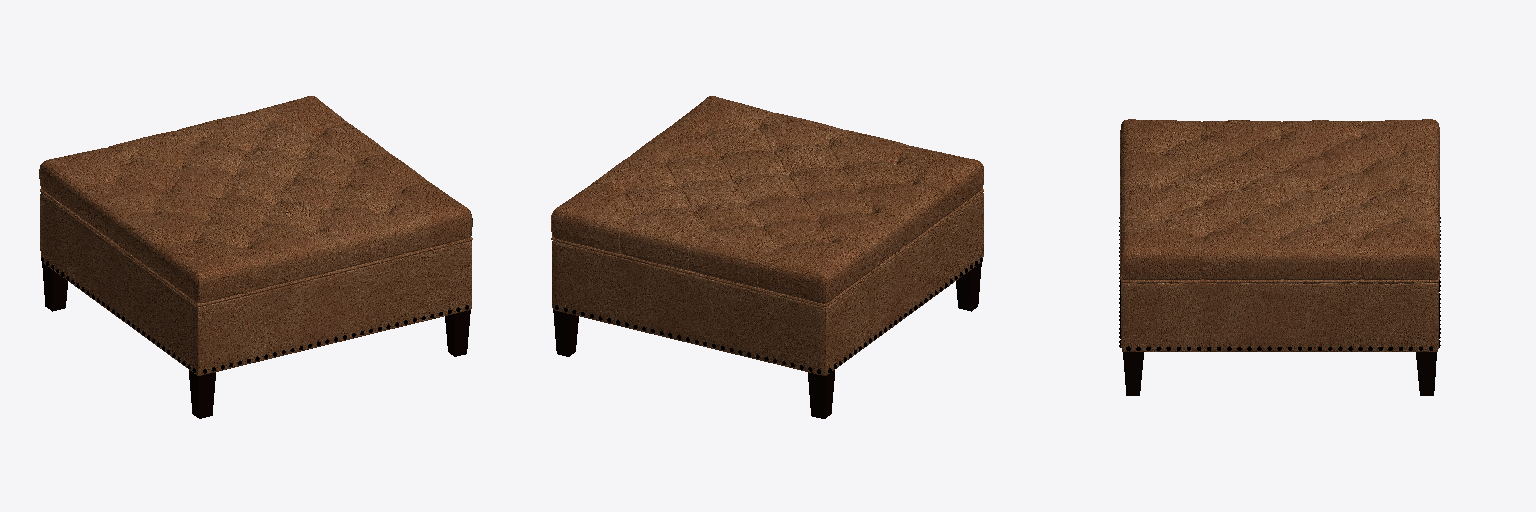
3 renders of one model, left to right at view 1: azimuth 30°, elevation 25°; view 2: azimuth 150°, elevation 25°; view 3: azimuth 270°, elevation 25°, orthographic.
Visible parts, largest first — view 1: not_clear_obj_0_v6, not_clear_obj_2_v6, not_clear_obj_1_v6; view 2: not_clear_obj_0_v6, not_clear_obj_2_v6, not_clear_obj_1_v6; view 3: not_clear_obj_0_v6, not_clear_obj_2_v6, not_clear_obj_1_v6.
Boxes of the visible parts, x1,y1,x2,y2 form: not_clear_obj_0_v6: [39, 96, 472, 375]; not_clear_obj_2_v6: [42, 262, 470, 418]; not_clear_obj_1_v6: [41, 257, 468, 373]; not_clear_obj_0_v6: [551, 96, 983, 375]; not_clear_obj_2_v6: [553, 262, 981, 418]; not_clear_obj_1_v6: [555, 257, 982, 373]; not_clear_obj_0_v6: [1120, 119, 1439, 351]; not_clear_obj_2_v6: [1123, 352, 1436, 395]; not_clear_obj_1_v6: [1119, 217, 1440, 350].
Bounding box in the file's own units: 88.93 × 45.6 × 88.93.
4 materials, 2 textured.